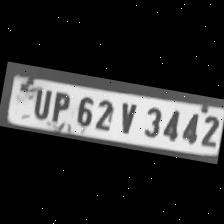2: (90, 94, 119, 132), (194, 110, 222, 148)
3: (136, 102, 164, 138)
4: (158, 104, 184, 142), (176, 106, 202, 144)
6: (68, 91, 96, 127)
P: (46, 88, 74, 124)
U: (26, 82, 54, 120)
V: (112, 97, 142, 136)
